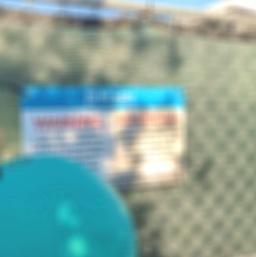algae: (0, 154, 135, 257)
